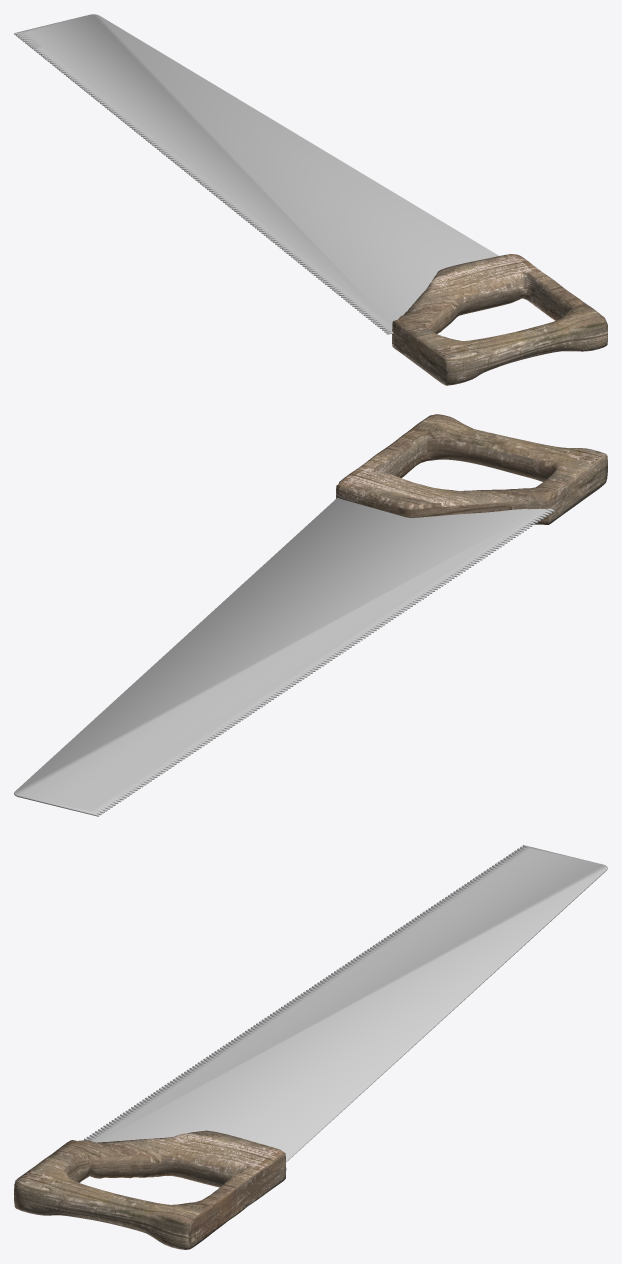
Rendered from SM_Saw.fbx.
3 renders of one model, top to bottom at view 1: azimuth 30°, elevation 25°; view 2: azimuth 150°, elevation 25°; view 3: azimuth 330°, elevation 25°, orthographic. The views are drawn at different scales.
Visible parts, largest first — view 1: SM_Saw_LOD0; view 2: SM_Saw_LOD0; view 3: SM_Saw_LOD0.
Part boxes in pixels (x1,y1,x2,y2): SM_Saw_LOD0: (14, 14, 607, 385); SM_Saw_LOD0: (14, 414, 607, 816); SM_Saw_LOD0: (14, 845, 607, 1249).
Bounding box in the file's own units: 17.1 × 80.68 × 2.8.
